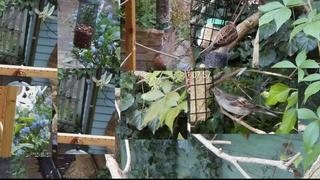sparrow: (210, 86, 278, 125), (199, 20, 239, 59)
